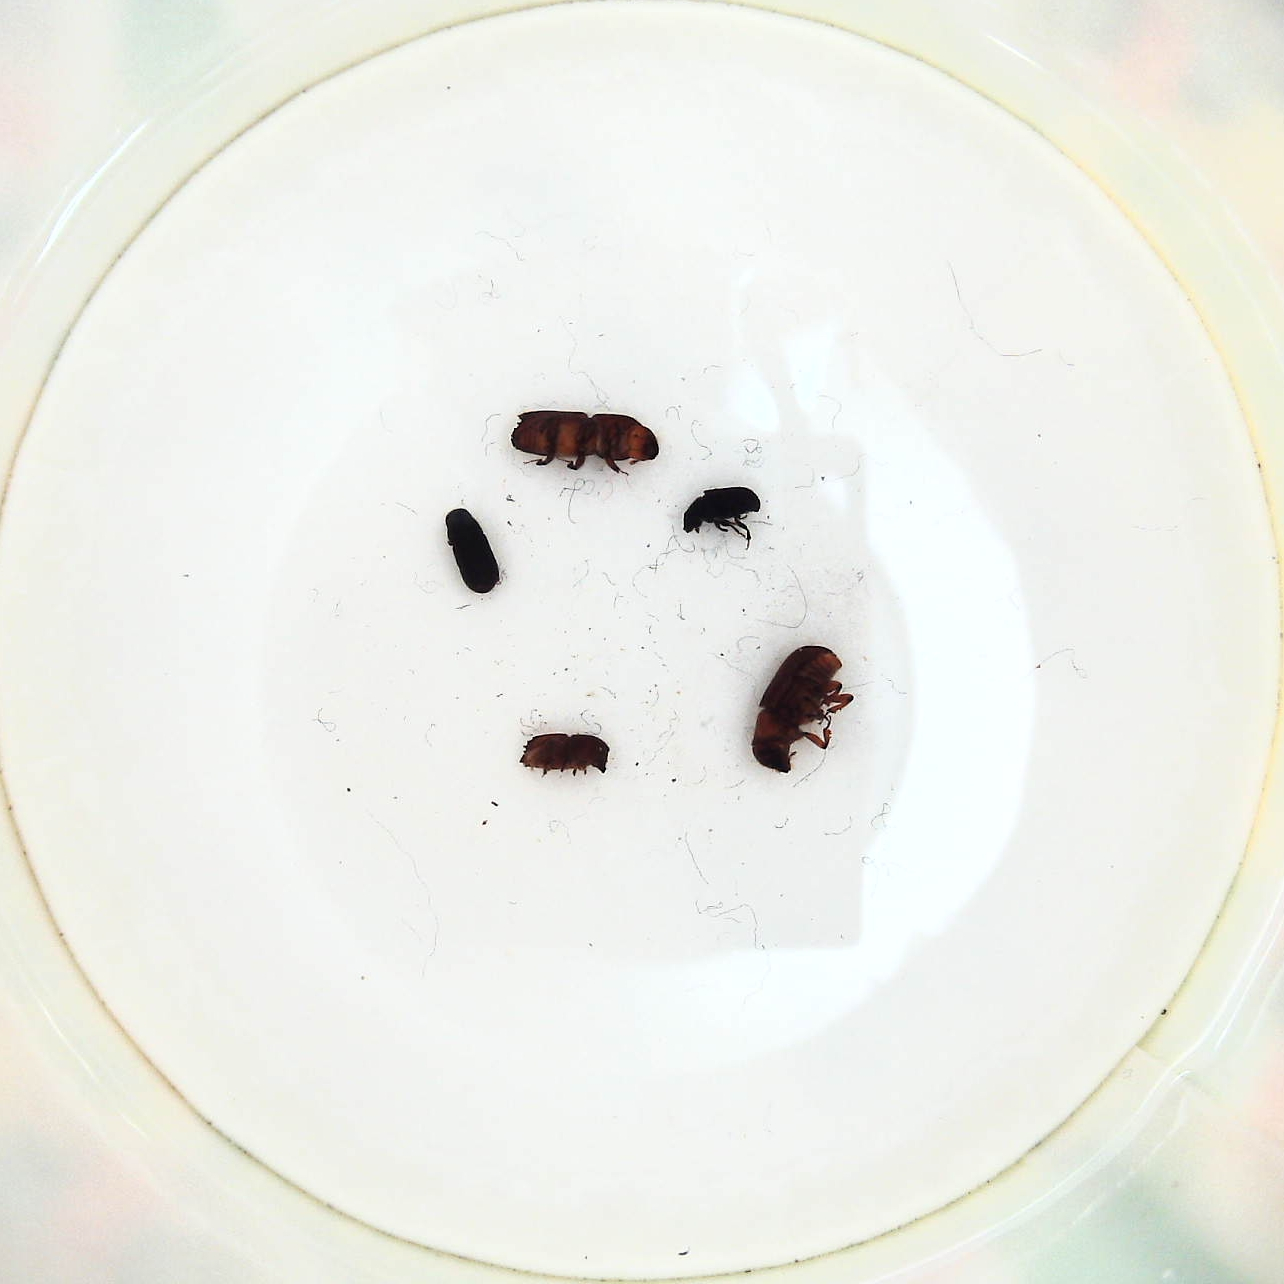Boerner: (503, 403, 664, 476)
Leconte: (747, 644, 856, 778)
armandi: (437, 499, 503, 598)
coleoptera: (681, 479, 761, 549)
linnaeus: (513, 730, 613, 778)
